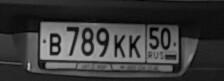license-plateSW: (39, 20, 180, 65)
